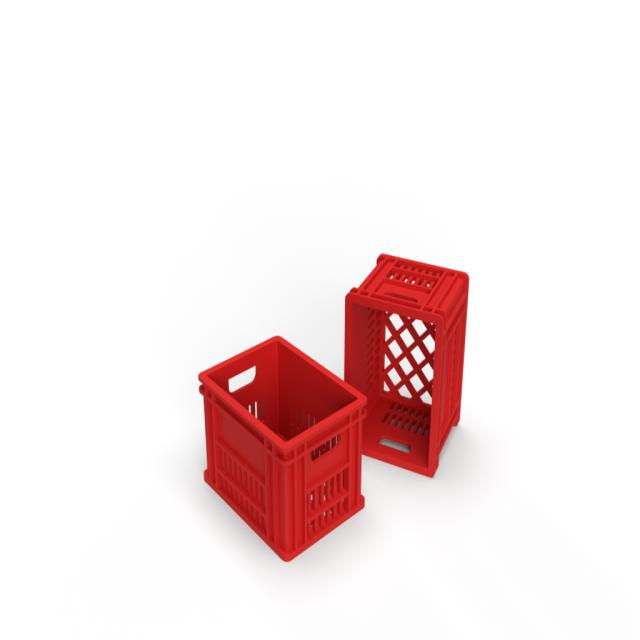basket: (147, 302, 420, 575), (335, 252, 471, 479)
